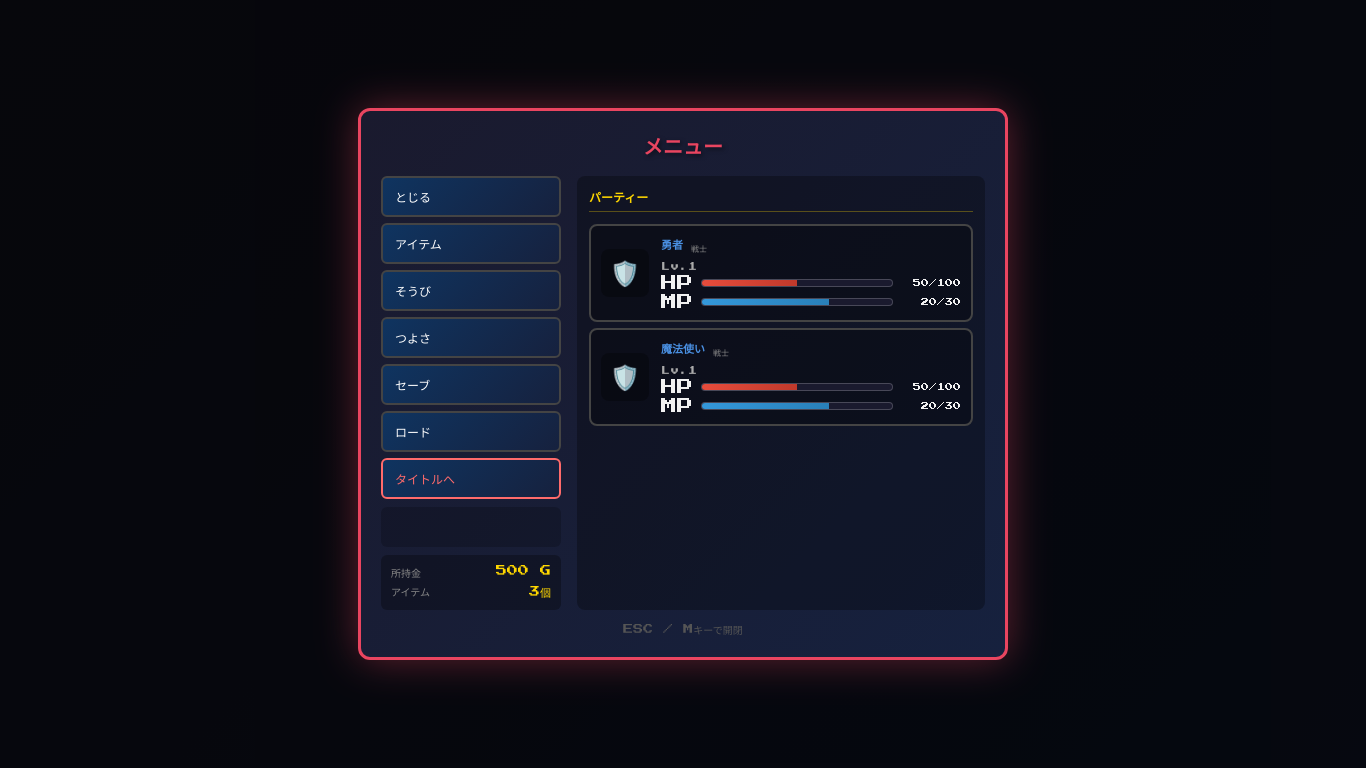
PauseMenu › ステータス画面 › 「つよさ」クリックでステータス画面に遷移する
Click the button "つよさ": click(471, 338) [381,317,561,358]
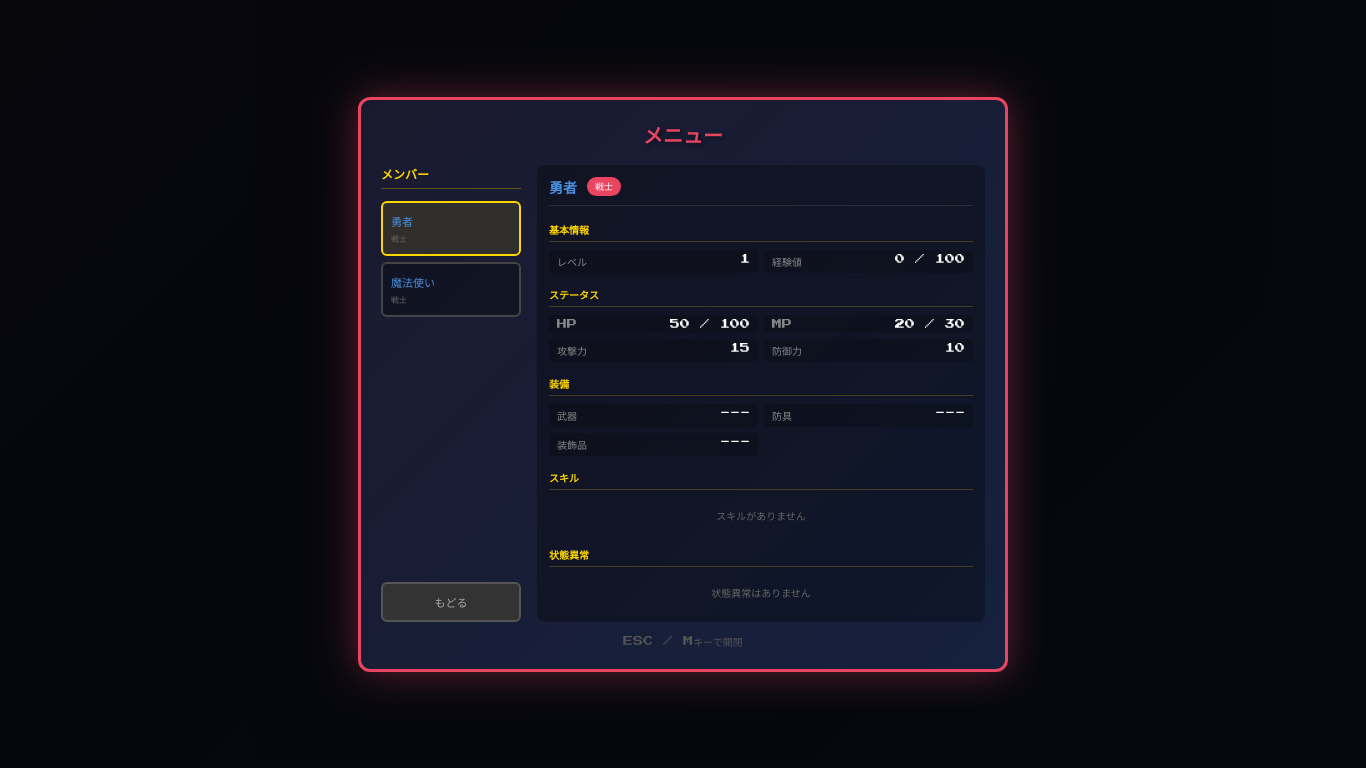
Now the heading "メンバー" is shown, box [381,164,521,188]
